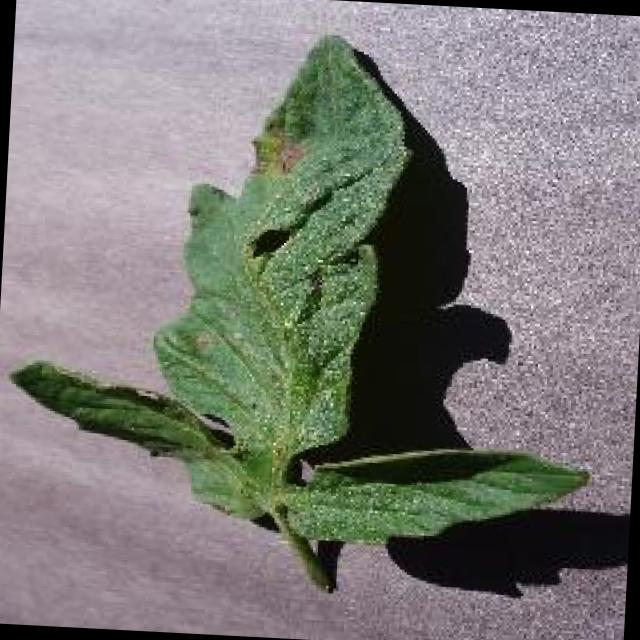Tomato_Early_Blight: (192, 47, 357, 233)
